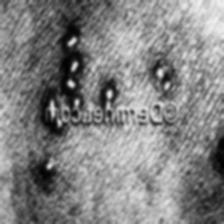Toxin: (60, 29, 86, 95), (100, 83, 118, 109), (216, 127, 224, 171)
